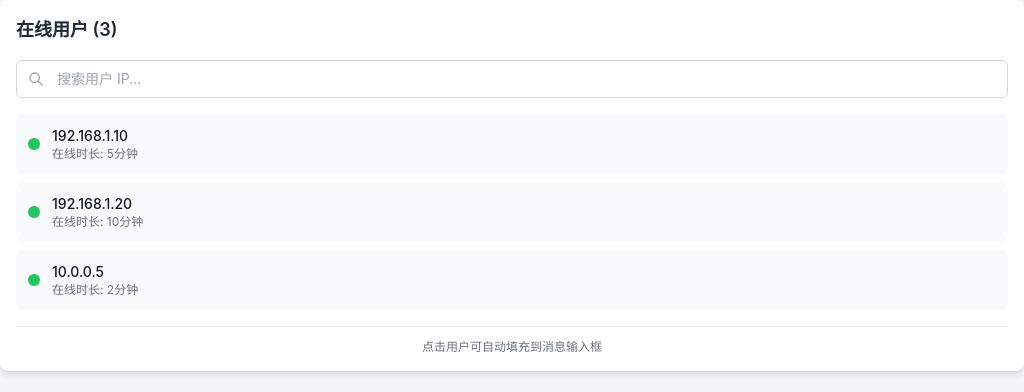
OnlineUserList › shows no results message when search has no matches
Search for something that doesn't exist
In the field with placeholder "搜索用户 IP...": (512, 79) left=16, top=60, right=1008, bottom=98, type "999.999"
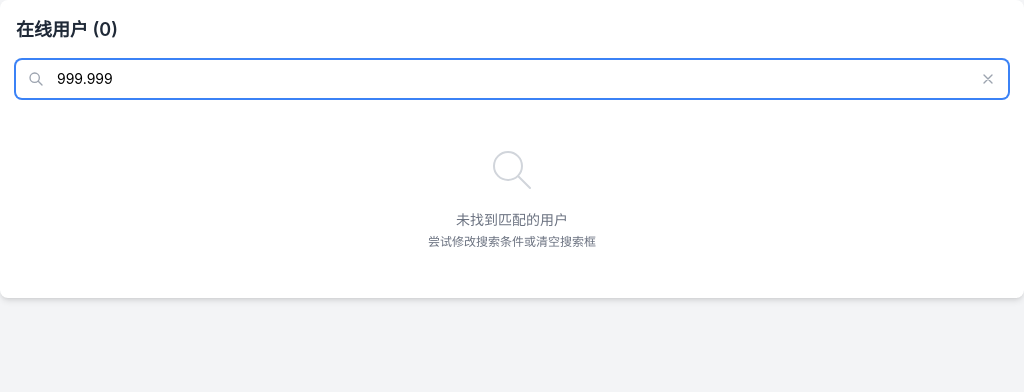
expect the heading "在线用户 (0)" is shown: met, box left=16, top=16, right=118, bottom=44
expect the text "未找到匹配的用户" is shown: met, box left=456, top=210, right=568, bottom=230
expect the text "尝试修改搜索条件或清空搜索框" is shown: met, box left=420, top=234, right=604, bottom=250
